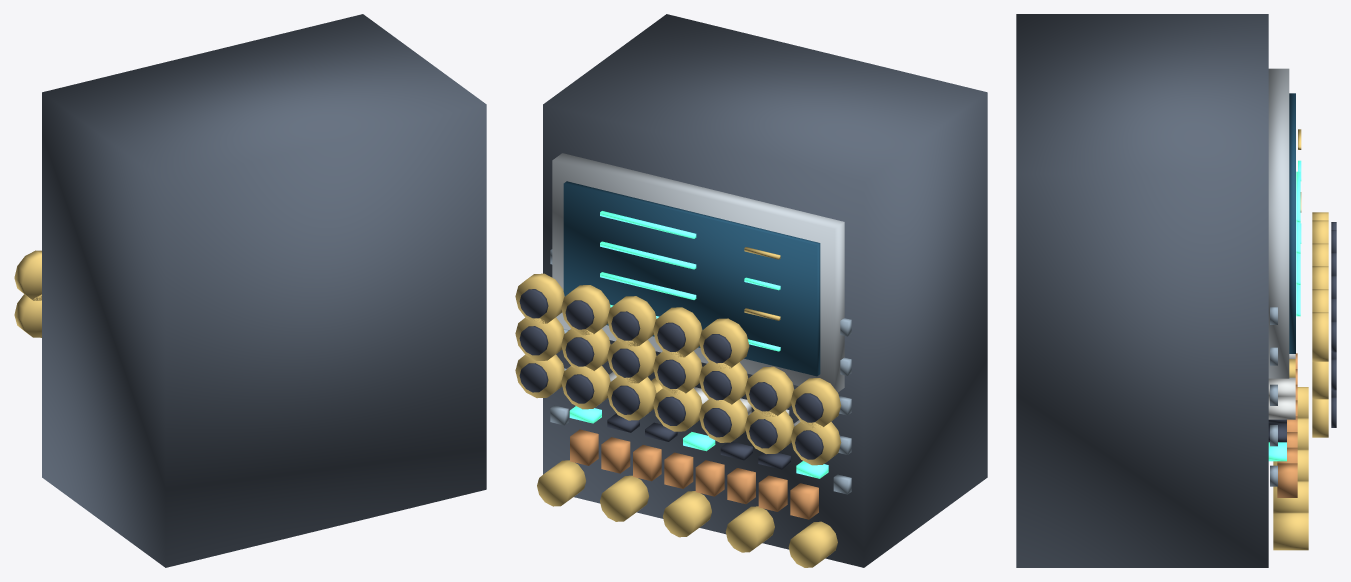
File: L86_72_SevenAxisJointServoController_Fitted.fbx
The picture shows the model from 3 angles, left to right: view 1: azimuth 30°, elevation 25°; view 2: azimuth 150°, elevation 25°; view 3: azimuth 270°, elevation 25°; orthographic projection. The views are drawn at different scales.
Parts seen in each view (by area): view 1: L86_SevenAxisJointServoController_Static__tint1F2633, L86_SevenAxisJointServoController_Static__tintF2B038; view 2: L86_SevenAxisJointServoController_Static__tint1F2633, L86_SevenAxisJointServoController_Static__tintF2B038, L86_SevenAxisJointServoController_Static__tint061D36, L86_SevenAxisJointServoController_Static__tint0F141F, L86_SevenAxisJointServoController_Static__tintA1B2C2, L86_SevenAxisJointServoController_Static__tintD46326, L86_SevenAxisJointServoController_Static__tint1AE88F, L86_SevenAxisJointServoController_Static__tint597591; view 3: L86_SevenAxisJointServoController_Static__tint1F2633, L86_SevenAxisJointServoController_Static__tintF2B038, L86_SevenAxisJointServoController_Static__tintA1B2C2, L86_SevenAxisJointServoController_Static__tint061D36, L86_SevenAxisJointServoController_Static__tint0F141F, L86_SevenAxisJointServoController_Static__tintD46326, L86_SevenAxisJointServoController_Static__tint1AE88F, L86_SevenAxisJointServoController_Static__tintD9E0E0, L86_SevenAxisJointServoController_Static__tint597591.
Part boxes in pixels (x1,y1,x2,y2): L86_SevenAxisJointServoController_Static__tint1F2633: (42,14,486,567); L86_SevenAxisJointServoController_Static__tintF2B038: (14,250,41,337); L86_SevenAxisJointServoController_Static__tint1F2633: (543,14,987,567); L86_SevenAxisJointServoController_Static__tintF2B038: (515,247,841,567); L86_SevenAxisJointServoController_Static__tint061D36: (563,181,820,376); L86_SevenAxisJointServoController_Static__tint0F141F: (519,289,823,469); L86_SevenAxisJointServoController_Static__tintA1B2C2: (552,153,844,392); L86_SevenAxisJointServoController_Static__tintD46326: (570,429,818,519); L86_SevenAxisJointServoController_Static__tint1AE88F: (569,211,828,478); L86_SevenAxisJointServoController_Static__tint597591: (550,249,851,494); L86_SevenAxisJointServoController_Static__tint1F2633: (1016,14,1268,567); L86_SevenAxisJointServoController_Static__tintF2B038: (1273,129,1328,550); L86_SevenAxisJointServoController_Static__tintA1B2C2: (1268,68,1289,378); L86_SevenAxisJointServoController_Static__tint061D36: (1289,93,1295,353); L86_SevenAxisJointServoController_Static__tint0F141F: (1268,222,1336,442); L86_SevenAxisJointServoController_Static__tintD46326: (1277,353,1297,497); L86_SevenAxisJointServoController_Static__tint1AE88F: (1268,160,1301,461); L86_SevenAxisJointServoController_Static__tintD9E0E0: (1268,354,1295,419); L86_SevenAxisJointServoController_Static__tint597591: (1270,307,1277,486).
Bounding box in the file's own units: 9.4 × 10.78 × 7.95.
